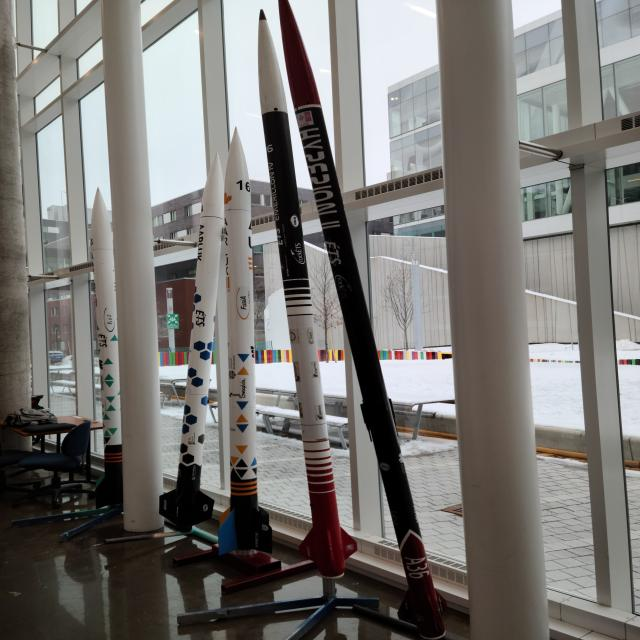Rocket: (278, 0, 448, 640), (257, 8, 358, 579), (159, 151, 224, 532), (217, 126, 272, 556), (90, 186, 124, 510)
